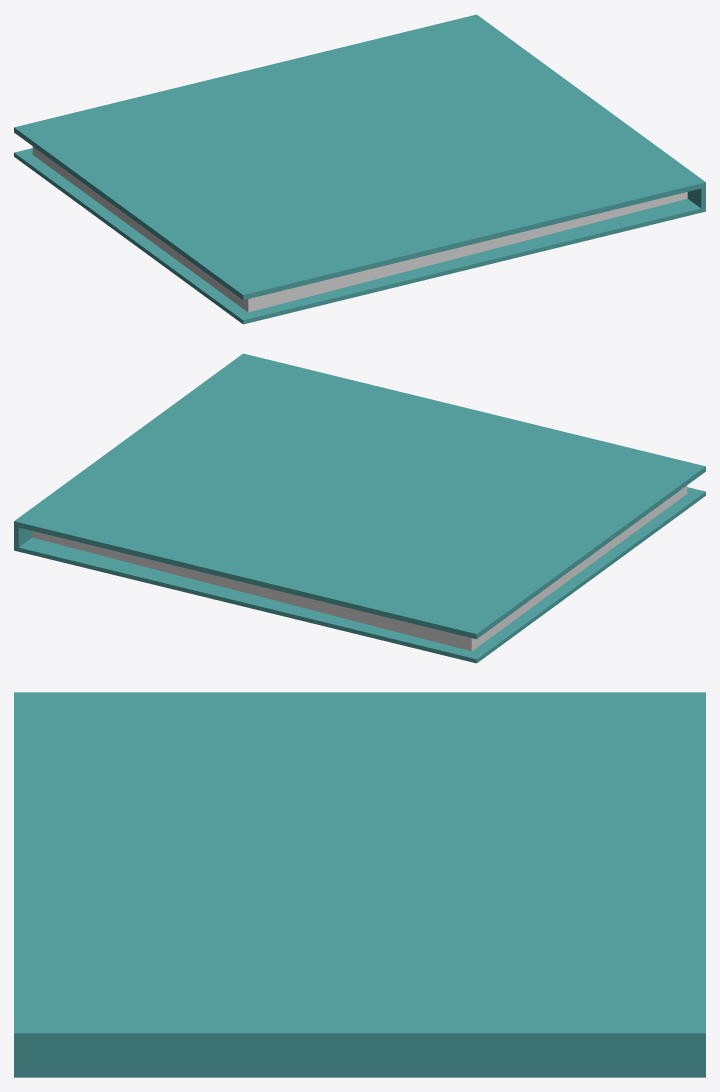
Rendered from Book.fbx.
3 views of the same model, one above another, from view 1: azimuth 30°, elevation 25°; view 2: azimuth 150°, elevation 25°; view 3: azimuth 270°, elevation 25° (orthographic). The views are drawn at different scales.
Visible parts, largest first — view 1: Book; view 2: Book; view 3: Book.
Part boxes in pixels (x1,y1,x2,y2): Book: (14,14,705,324); Book: (14,353,705,663); Book: (14,692,705,1077).
Bounding box in the file's own units: 1.01 × 0.0612 × 0.8666.
